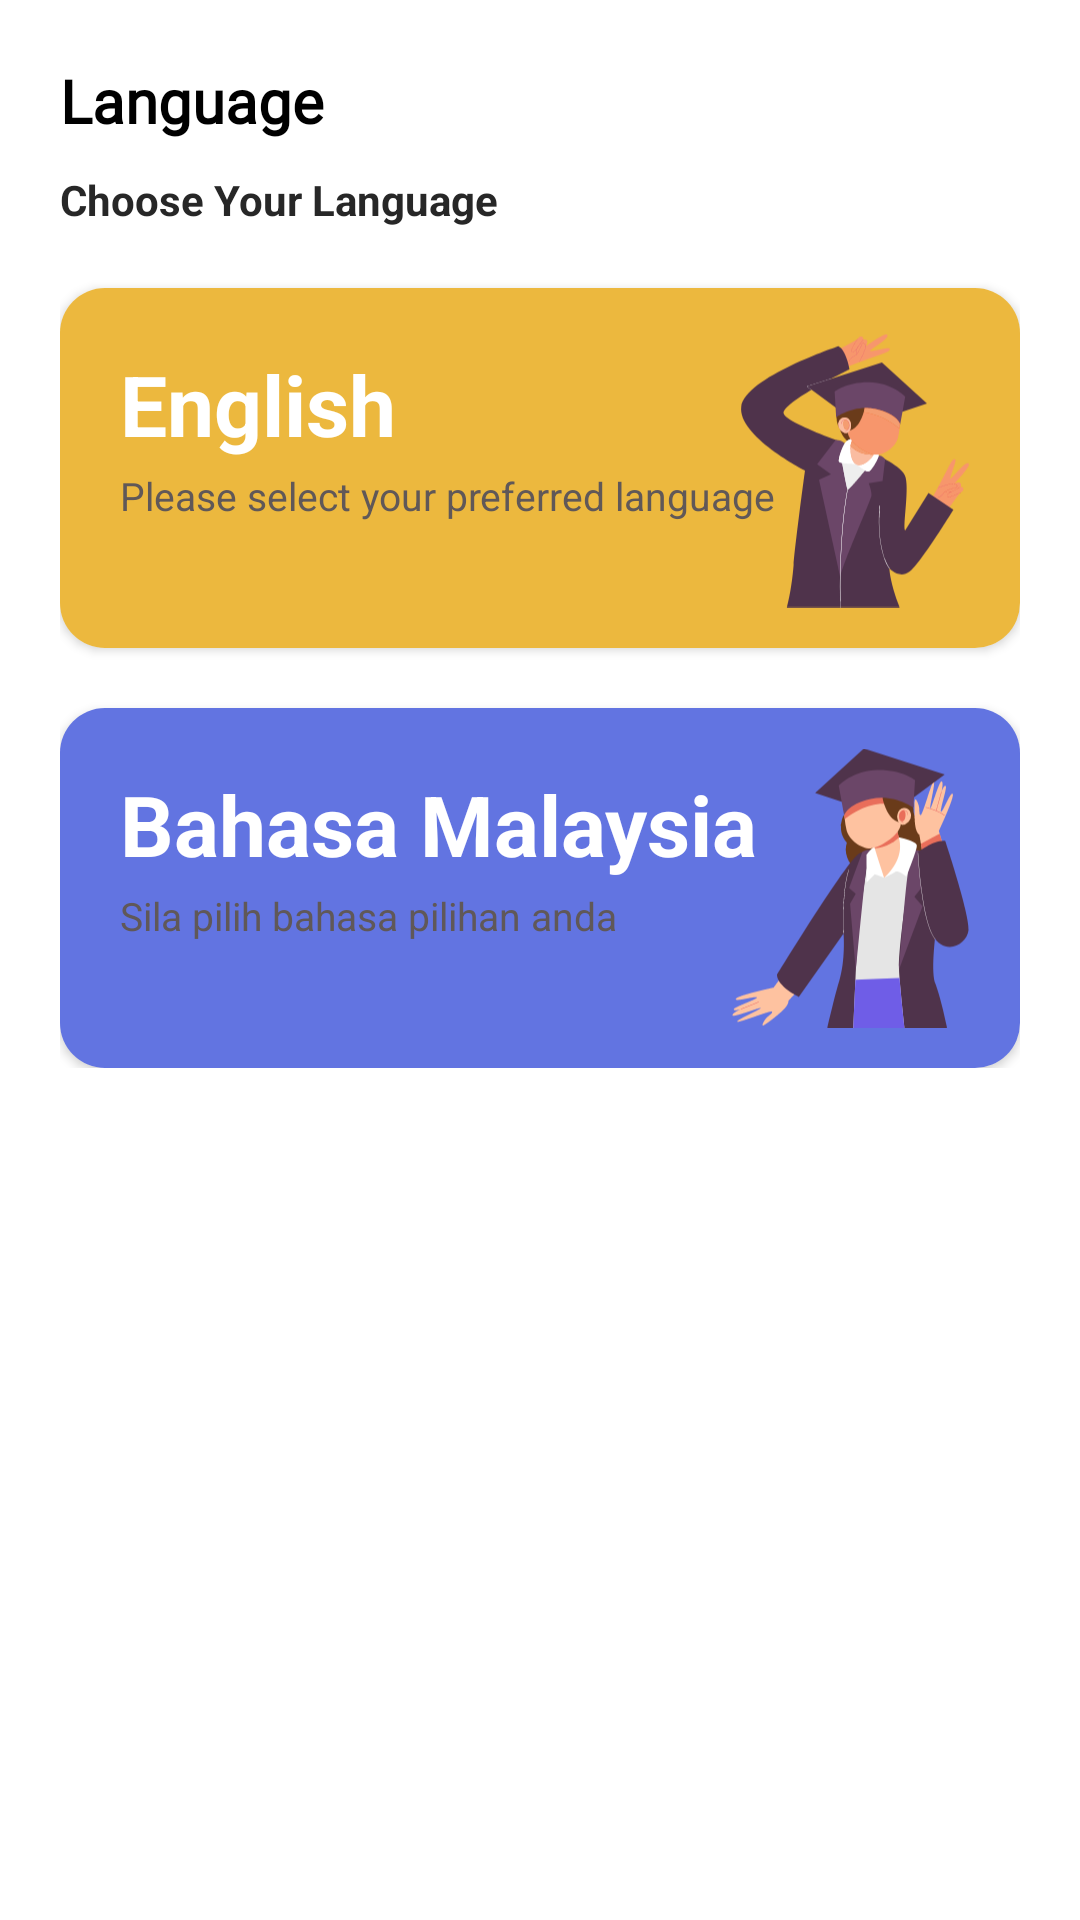

Screen size 1080 x 1920. Icon name, then its center in pixels as (x,y):
girl student graduation dance: (841,888)
student graduation dance: (841,471)
